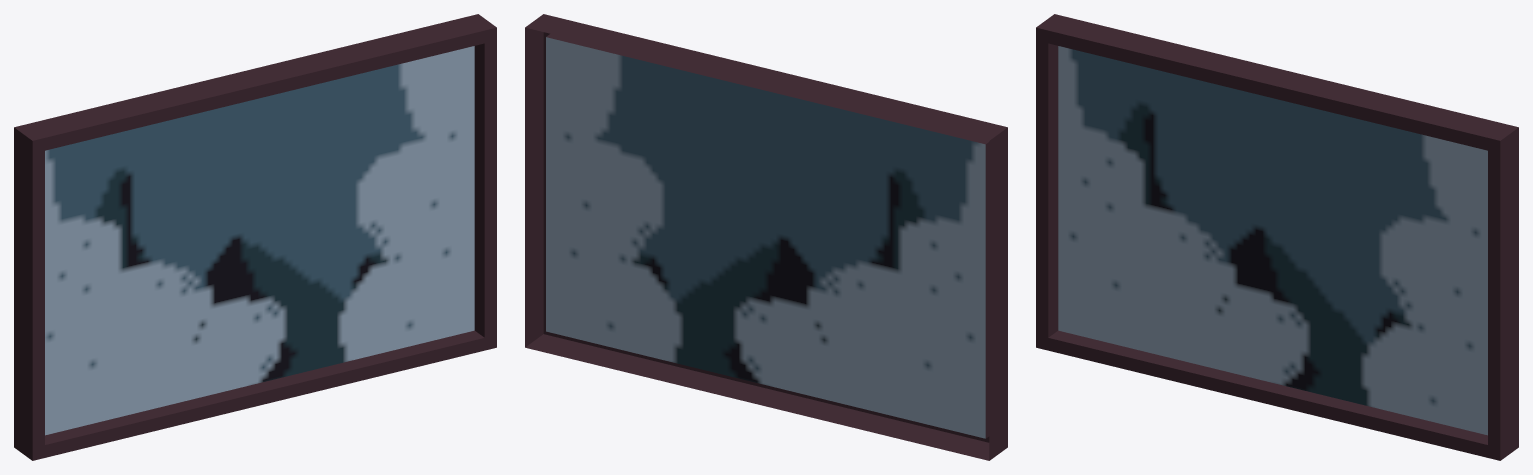
File: Pintura1.fbx
3 renders of one model, left to right at view 1: azimuth 30°, elevation 25°; view 2: azimuth 150°, elevation 25°; view 3: azimuth 330°, elevation 25°, orthographic.
Visible parts, largest first — view 1: Pintura1; view 2: Pintura1; view 3: Pintura1.
Part boxes in pixels (bbox=[...]): Pintura1: bbox=[14, 14, 496, 460]; Pintura1: bbox=[525, 14, 1007, 460]; Pintura1: bbox=[1036, 14, 1518, 460].
Size of the model in its own units: 192 by 13.27 by 126.
